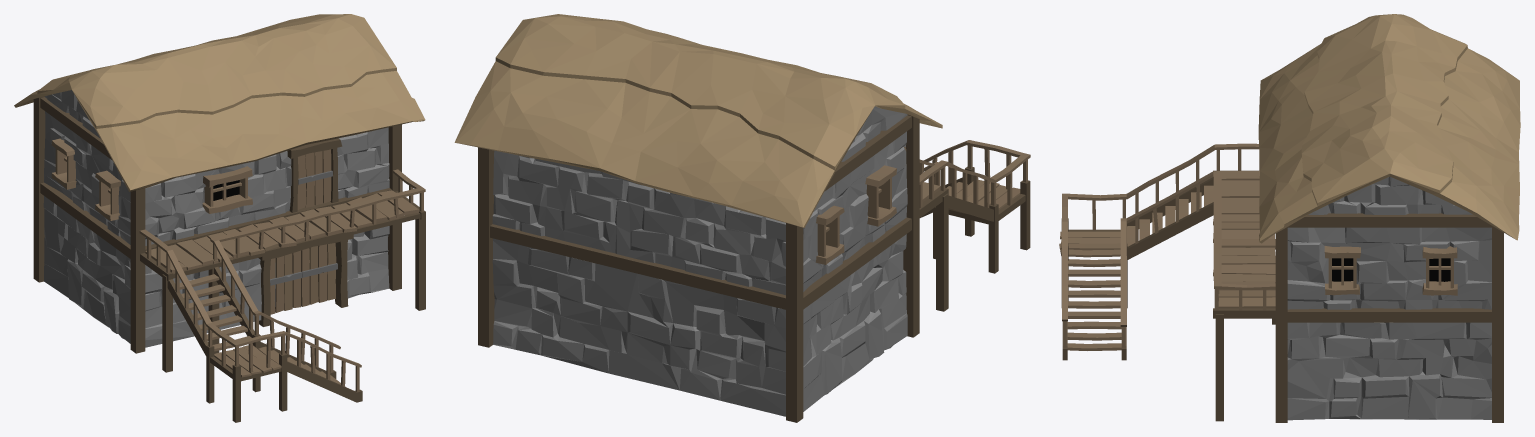
File: village_stone_house_m.FBX
The picture shows the model from 3 angles, left to right: view 1: azimuth 30°, elevation 25°; view 2: azimuth 150°, elevation 25°; view 3: azimuth 270°, elevation 25°; orthographic projection. The views are drawn at different scales.
Visible parts, largest first — view 1: village_stone_house_m; view 2: village_stone_house_m; view 3: village_stone_house_m.
Part boxes in pixels (x1=…): village_stone_house_m: x1=14, y1=14, x2=425, y2=422; village_stone_house_m: x1=454, y1=14, x2=1030, y2=422; village_stone_house_m: x1=1059, y1=14, x2=1520, y2=422.
Bounding box in the file's own units: 11.3 × 9.21 × 13.66.
